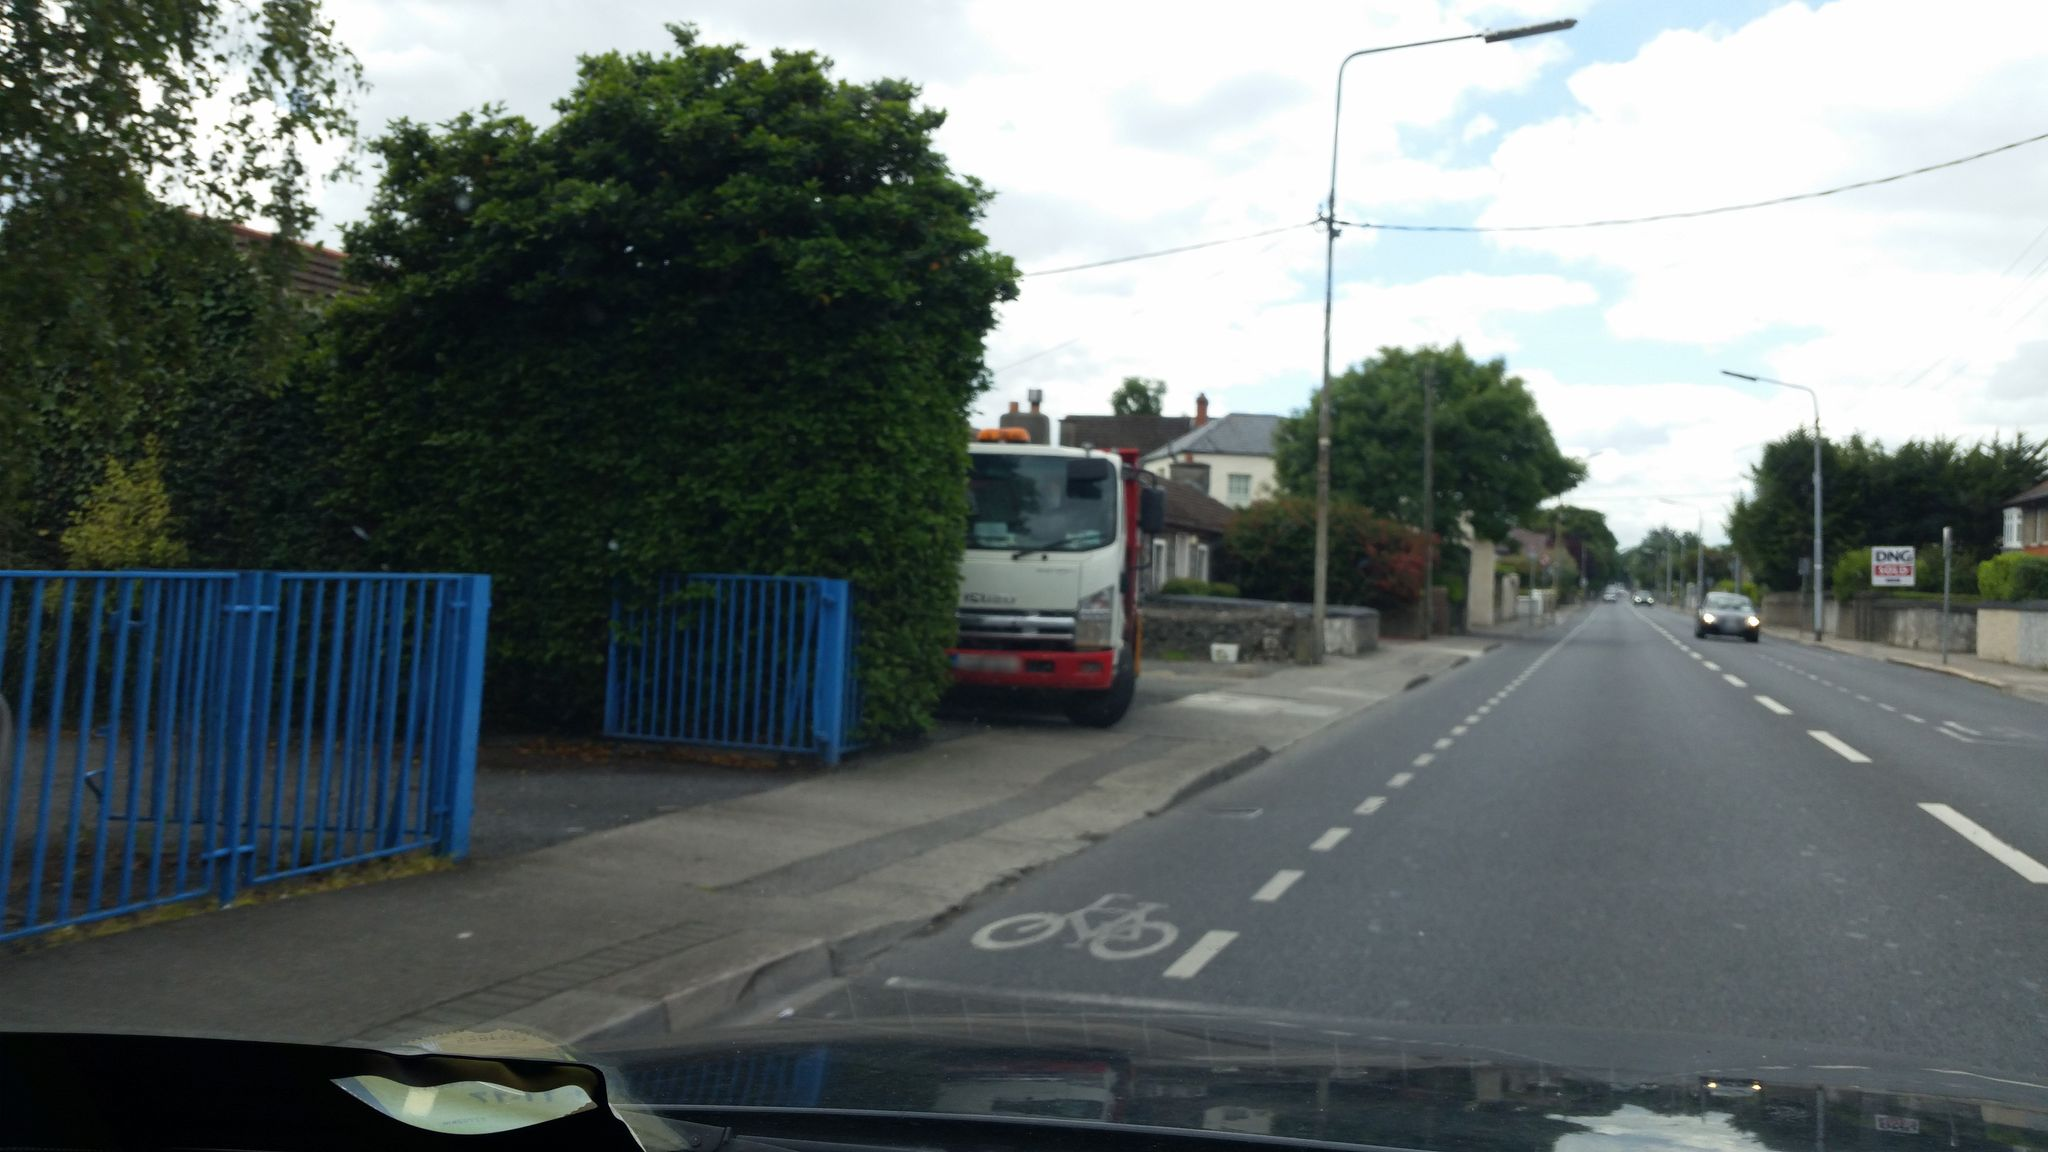property sign: (1860, 527, 1928, 598)
